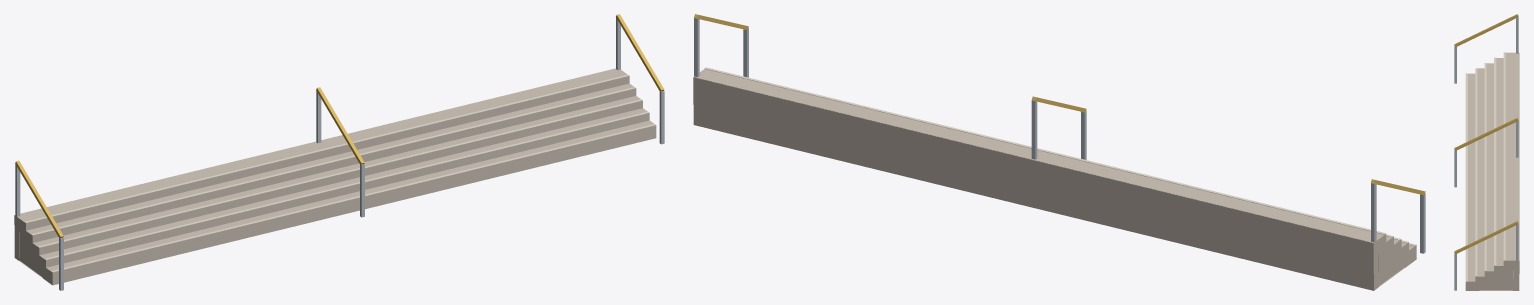
Rendered from scala-larga.glb.
3 renders of one model, left to right at view 1: azimuth 30°, elevation 25°; view 2: azimuth 150°, elevation 25°; view 3: azimuth 270°, elevation 25°, orthographic. The views are drawn at different scales.
Visible parts, largest first — view 1: Scala_beige.004, Scala_beige.001, Scala_beige, Scala_beige.006, Scala_beige_l.001, Scala_beige_l, Scala_beige_l.006, Scala_beige_l.004, Scala_metal.002, Scala_metal.001, Scala_metal, Scala_brass (+2 smaller); view 2: Scala_beige.004, Scala_beige.006, Scala_beige.001, Scala_beige, Scala_metal.001, Scala_metal, Scala_metal.002, Scala_beige_l.004, Scala_beige_l.001, Scala_beige_l; view 3: Scala_beige.006, Scala_beige.004, Scala_beige, Scala_beige.001, Scala_beige_l.004, Scala_beige_l, Scala_beige_l.001, Scala_beige_l.006, Scala_brass, Scala_brass.001, Scala_brass.002, Scala_metal (+2 smaller).
Boxes of the visible parts, x1,y1,x2,y2 form: Scala_beige.004: [14, 179, 210, 285]; Scala_beige.001: [160, 141, 355, 249]; Scala_beige: [320, 103, 513, 211]; Scala_beige.006: [464, 68, 656, 172]; Scala_beige_l.001: [169, 148, 355, 237]; Scala_beige_l: [327, 109, 512, 198]; Scala_beige_l.006: [471, 74, 655, 163]; Scala_beige_l.004: [24, 184, 209, 272]; Scala_metal.002: [616, 18, 664, 144]; Scala_metal.001: [15, 164, 63, 290]; Scala_metal: [316, 91, 364, 217]; Scala_brass: [316, 87, 364, 164]; Scala_beige.004: [1195, 192, 1416, 290]; Scala_beige.006: [693, 69, 881, 168]; Scala_beige.001: [1032, 151, 1220, 250]; Scala_beige: [855, 109, 1042, 207]; Scala_metal.001: [1371, 182, 1425, 253]; Scala_metal: [1031, 99, 1086, 159]; Scala_metal.002: [694, 18, 748, 77]; Scala_beige_l.004: [1209, 190, 1416, 246]; Scala_beige_l.001: [1044, 150, 1222, 194]; Scala_beige_l: [866, 106, 1044, 151]; Scala_beige.006: [1465, 206, 1519, 290]; Scala_beige.004: [1468, 52, 1519, 127]; Scala_beige: [1468, 157, 1519, 232]; Scala_beige.001: [1468, 102, 1519, 177]; Scala_beige_l.004: [1465, 52, 1505, 126]; Scala_beige_l: [1465, 156, 1505, 232]; Scala_beige_l.001: [1465, 103, 1505, 177]; Scala_beige_l.006: [1465, 211, 1505, 281]; Scala_brass: [1454, 118, 1518, 150]; Scala_brass.001: [1454, 14, 1518, 46]; Scala_brass.002: [1454, 221, 1518, 253]; Scala_metal: [1454, 121, 1518, 187].
Bounding box in the file's own units: 11.47 × 1.77 × 1.52.
